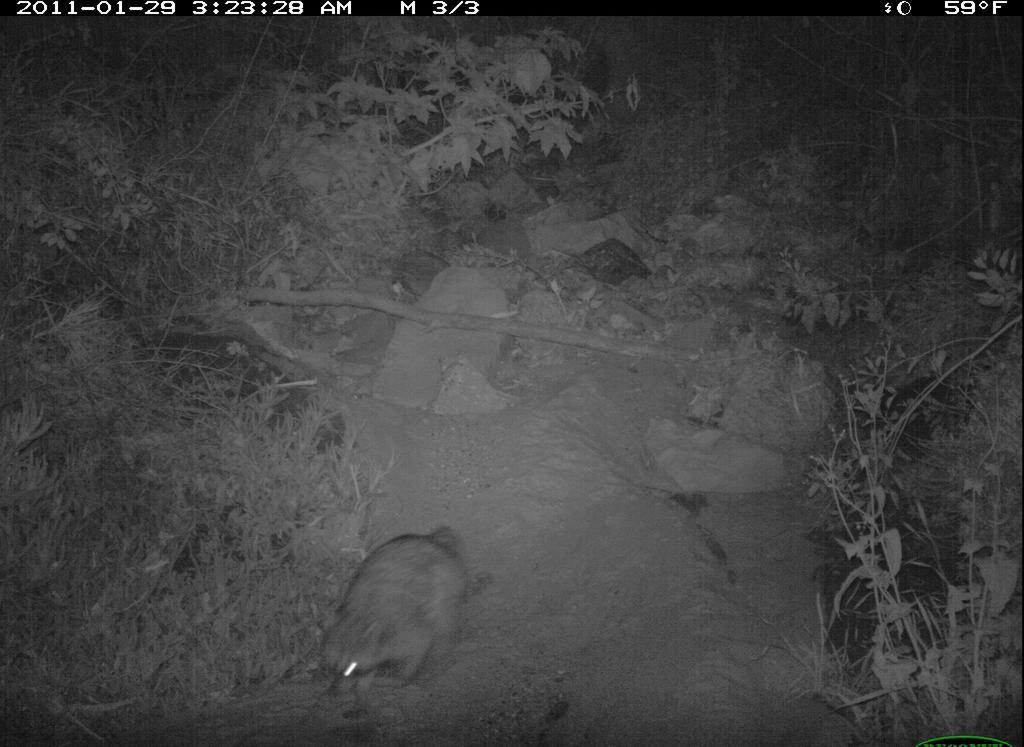raccoon: (295, 515, 495, 720)
